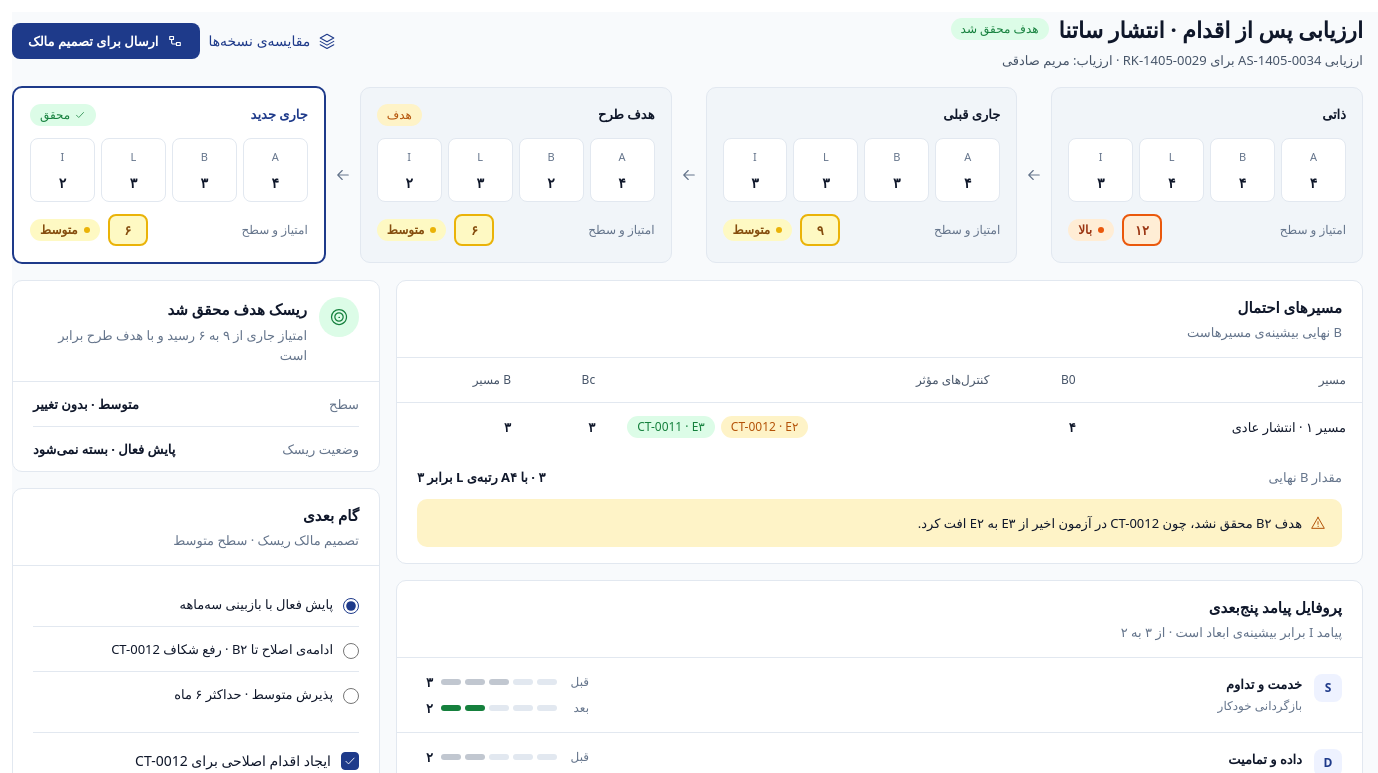
Test: PostActionPage › asks the owner for the decision
Step 1. Click the button "ارسال برای تصمیم مالک" → (106, 41), box [12,23,200,59]
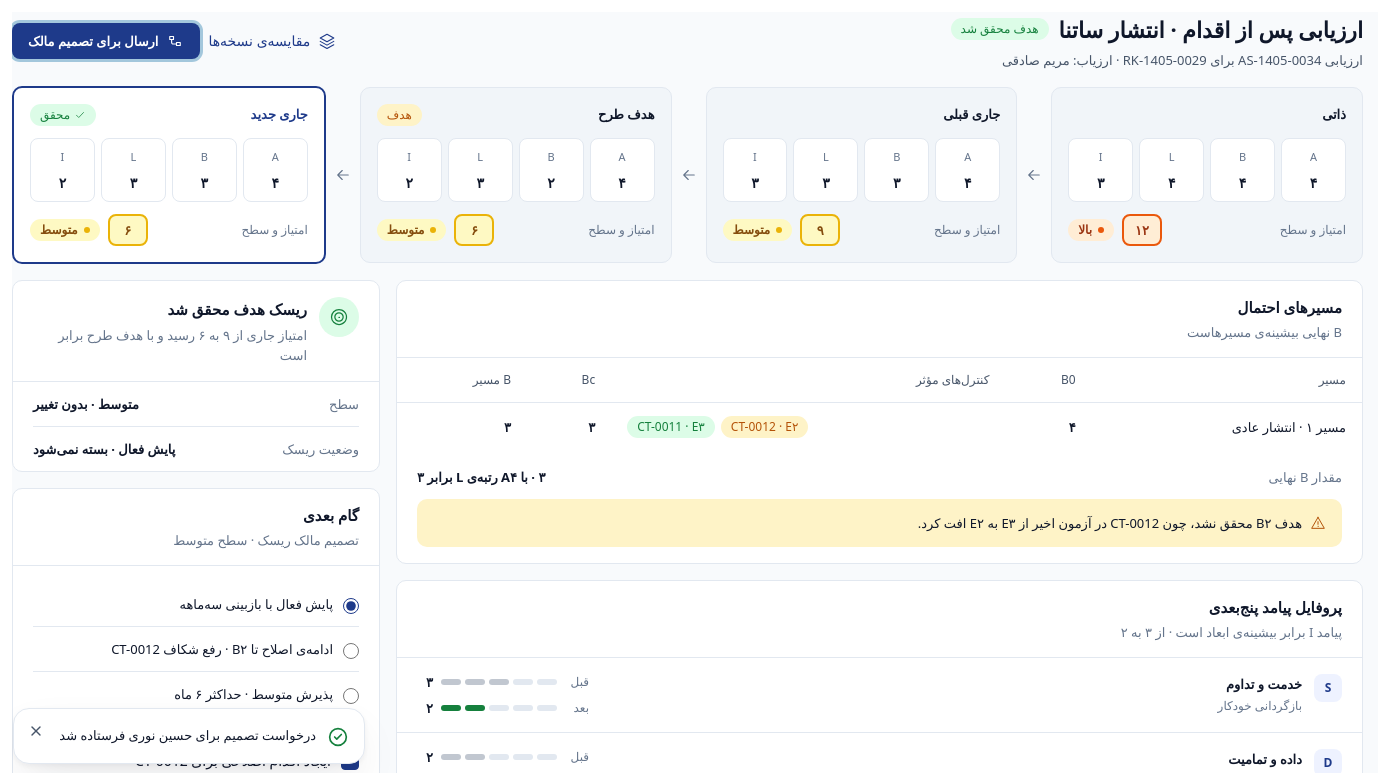
Check: the text "درخواست تصمیم برای حسین نوری فرستاده شد" is shown, box [59,725,316,745]
